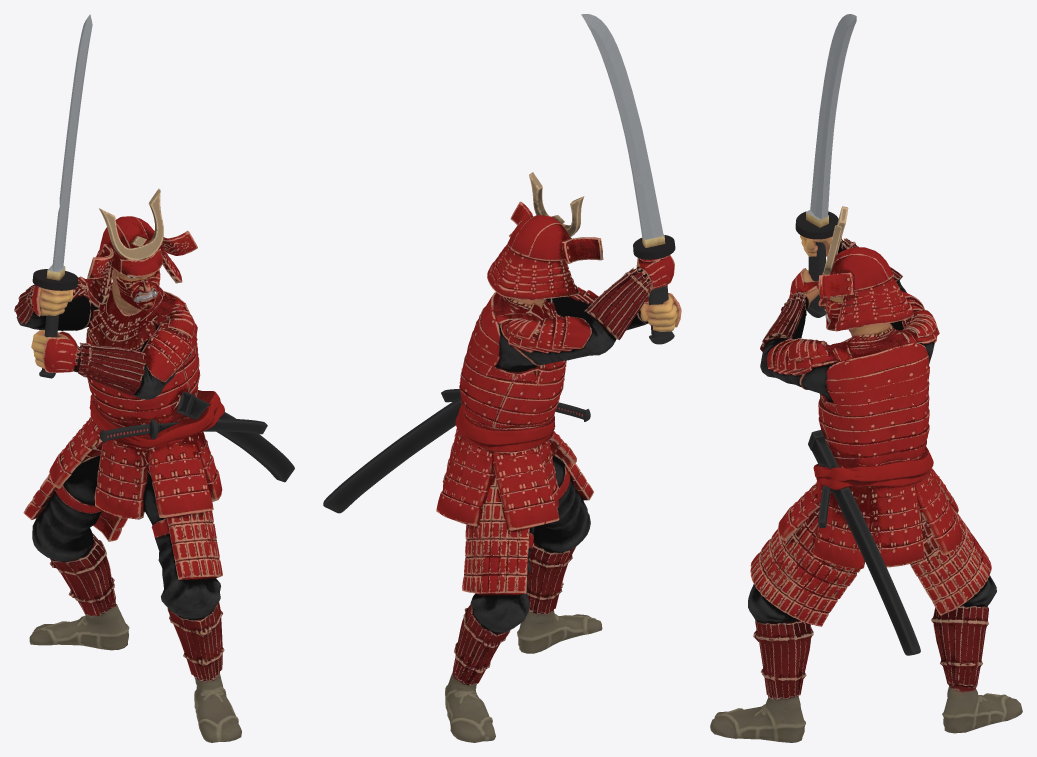
The model's file is MZ4250 - Samurai Melee 2.glb.
3 renders of one model, left to right at view 1: azimuth 30°, elevation 25°; view 2: azimuth 150°, elevation 25°; view 3: azimuth 270°, elevation 25°, orthographic.
Visible parts, largest first — view 1: Samurai melee.002; view 2: Samurai melee.002; view 3: Samurai melee.002.
Part boxes in pixels (box(x1,y1,x2,y2)): Samurai melee.002: box(14, 14, 294, 742); Samurai melee.002: box(323, 14, 681, 742); Samurai melee.002: box(710, 14, 1022, 742).
Size of the model in its own units: 2.1 by 4.49 by 1.86.
6 materials, 6 textured.
